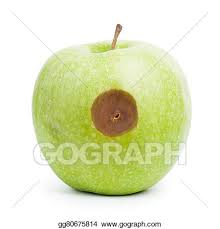damaged_apple: (29, 42, 194, 194)
